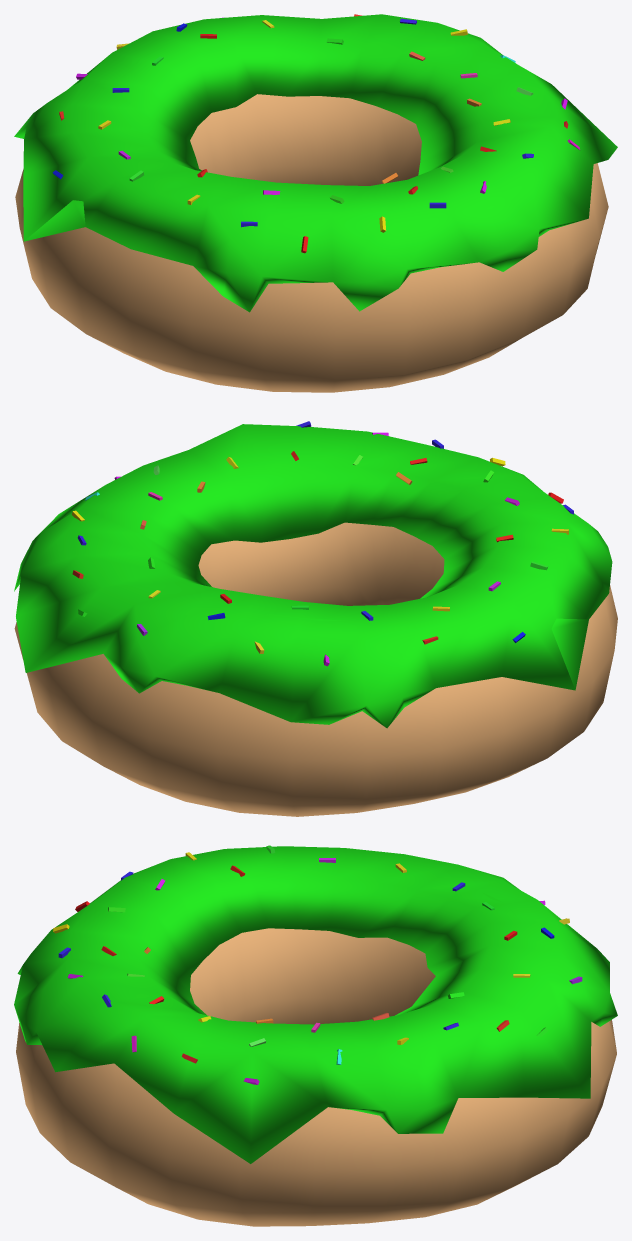
File: Lowpoly-Donut-Green.fbx
The picture shows the model from 3 angles, top to bottom: view 1: azimuth 30°, elevation 25°; view 2: azimuth 150°, elevation 25°; view 3: azimuth 270°, elevation 25°; orthographic projection. The views are drawn at different scales.
Parts seen in each view (by area): view 1: Icing, Donut; view 2: Icing, Donut; view 3: Icing, Donut.
Part boxes in pixels (box(x1,y1,x2,y2)): Icing: box(14, 14, 617, 312); Donut: box(15, 94, 608, 392); Icing: box(14, 424, 612, 728); Donut: box(14, 522, 617, 816); Icing: box(14, 846, 617, 1163); Donut: box(16, 928, 616, 1226).
Size of the model in its own units: 15.15 by 5.03 by 14.23.
